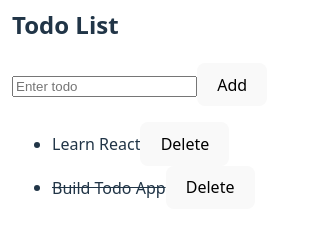
it: TodoList Component › can delete a todo
Click the button with test id "delete-2". click: coordinates (210, 187)
box: [166,166,255,209]
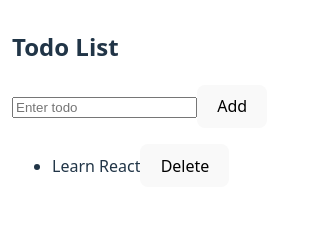
Now the list item "Build Todo App" is gone
